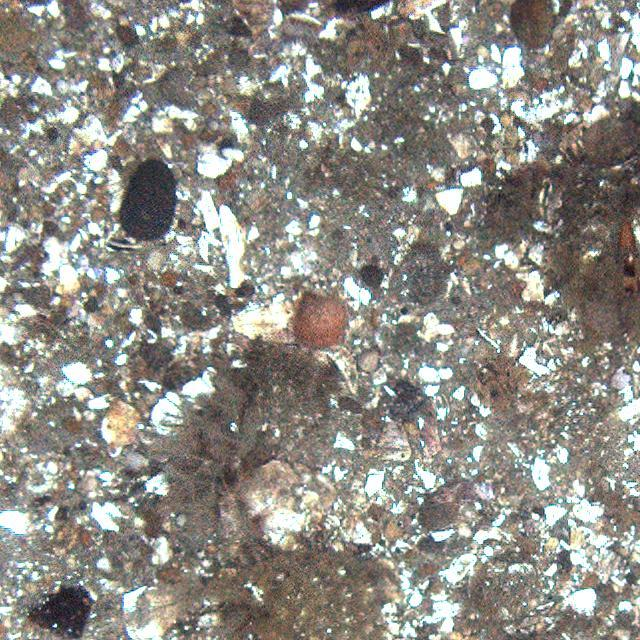scallop: (293, 283, 352, 348)
